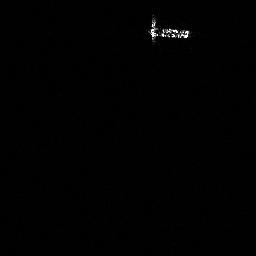ship: (151, 25, 189, 38)
